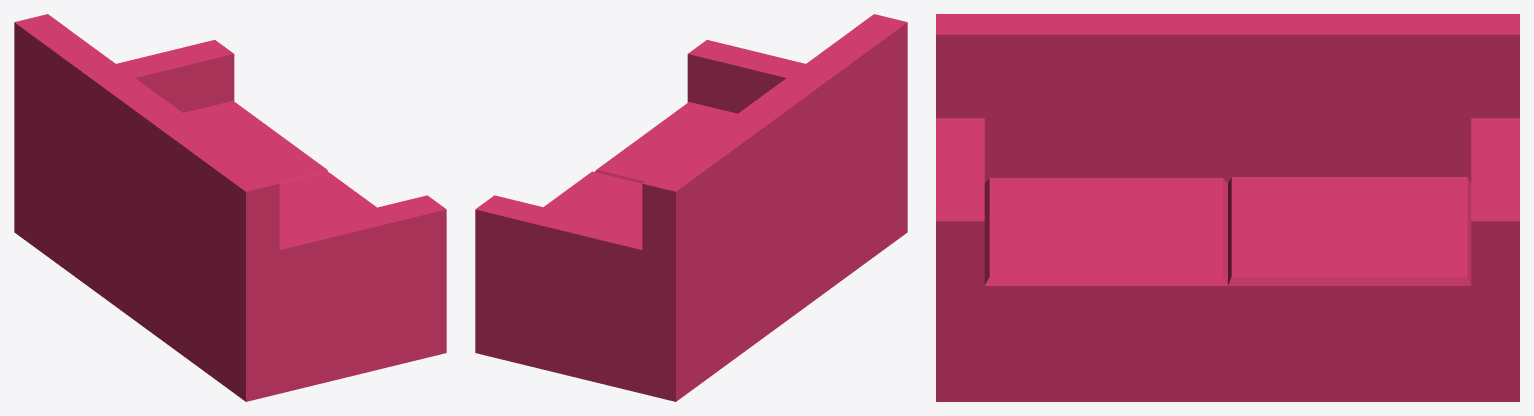
Rendered from couch.glb.
3 views of the same model, side by side, from view 1: azimuth 30°, elevation 25°; view 2: azimuth 150°, elevation 25°; view 3: azimuth 270°, elevation 25° (orthographic). The views are drawn at different scales.
Visible parts, largest first — view 1: Cube; view 2: Cube; view 3: Cube.
Part boxes in pixels (x1,y1,x2,y2): Cube: [14, 14, 446, 401]; Cube: [475, 14, 907, 401]; Cube: [936, 14, 1519, 401].
Size of the model in its own units: 1.2 by 1.2 by 2.4.
